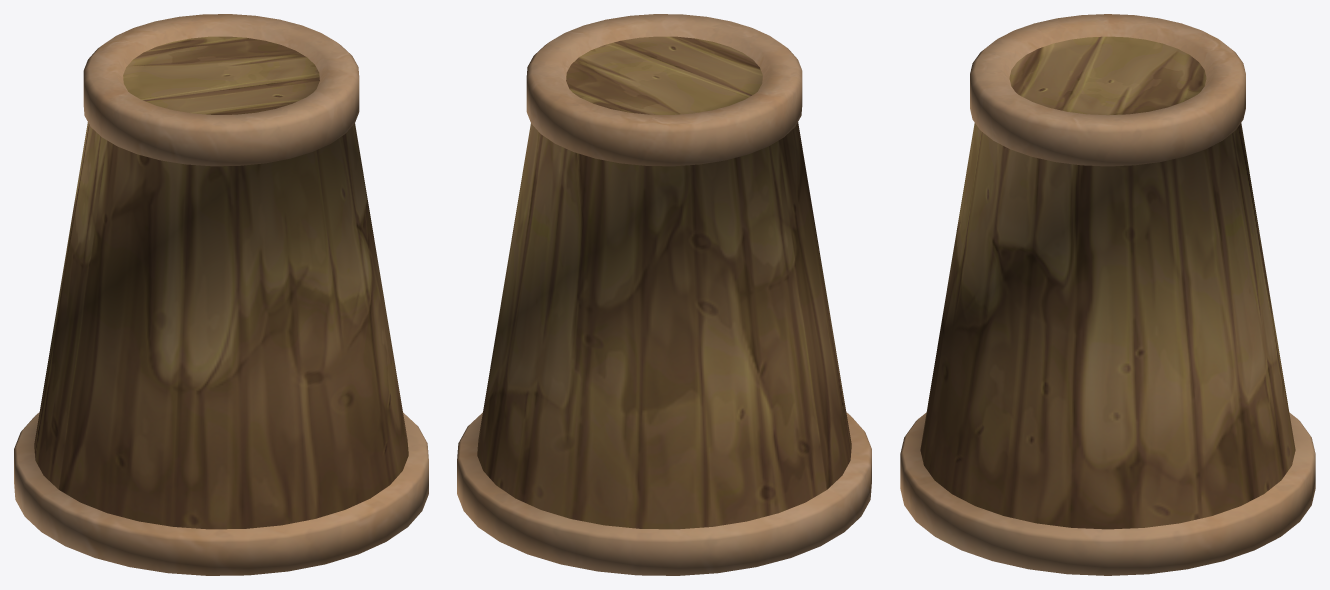
The model's file is Cup_02.glb.
The picture shows the model from 3 angles, left to right: view 1: azimuth 30°, elevation 25°; view 2: azimuth 150°, elevation 25°; view 3: azimuth 270°, elevation 25°; orthographic projection.
Parts seen in each view (by area): view 1: Cylinder; view 2: Cylinder; view 3: Cylinder.
Boxes of the visible parts, <box> form: Cylinder: <box>14,14,428,575</box>; Cylinder: <box>457,14,871,575</box>; Cylinder: <box>900,14,1315,575</box>.
Bounding box in the file's own units: 2.22 × 2.46 × 2.22.
Materials: 1 (1 with a texture image).
